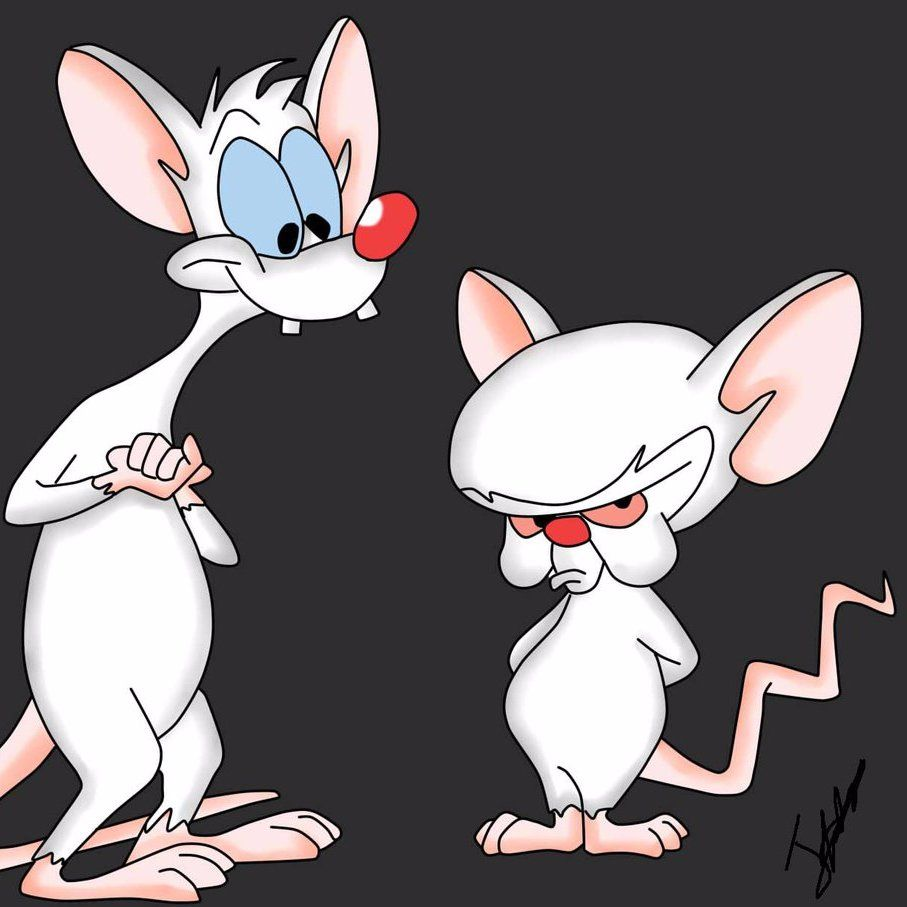cerebro: (429, 253, 903, 869)
pink: (1, 9, 422, 907)
